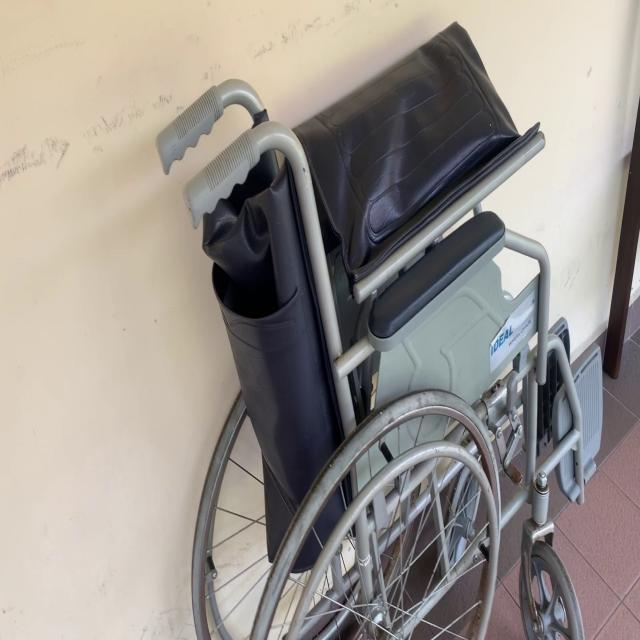wheelchair: (149, 12, 606, 640)
